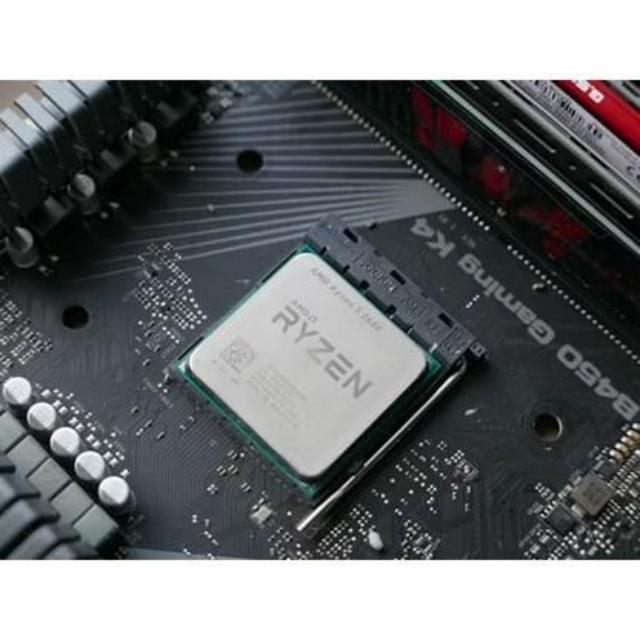CPU: (177, 247, 429, 487)
